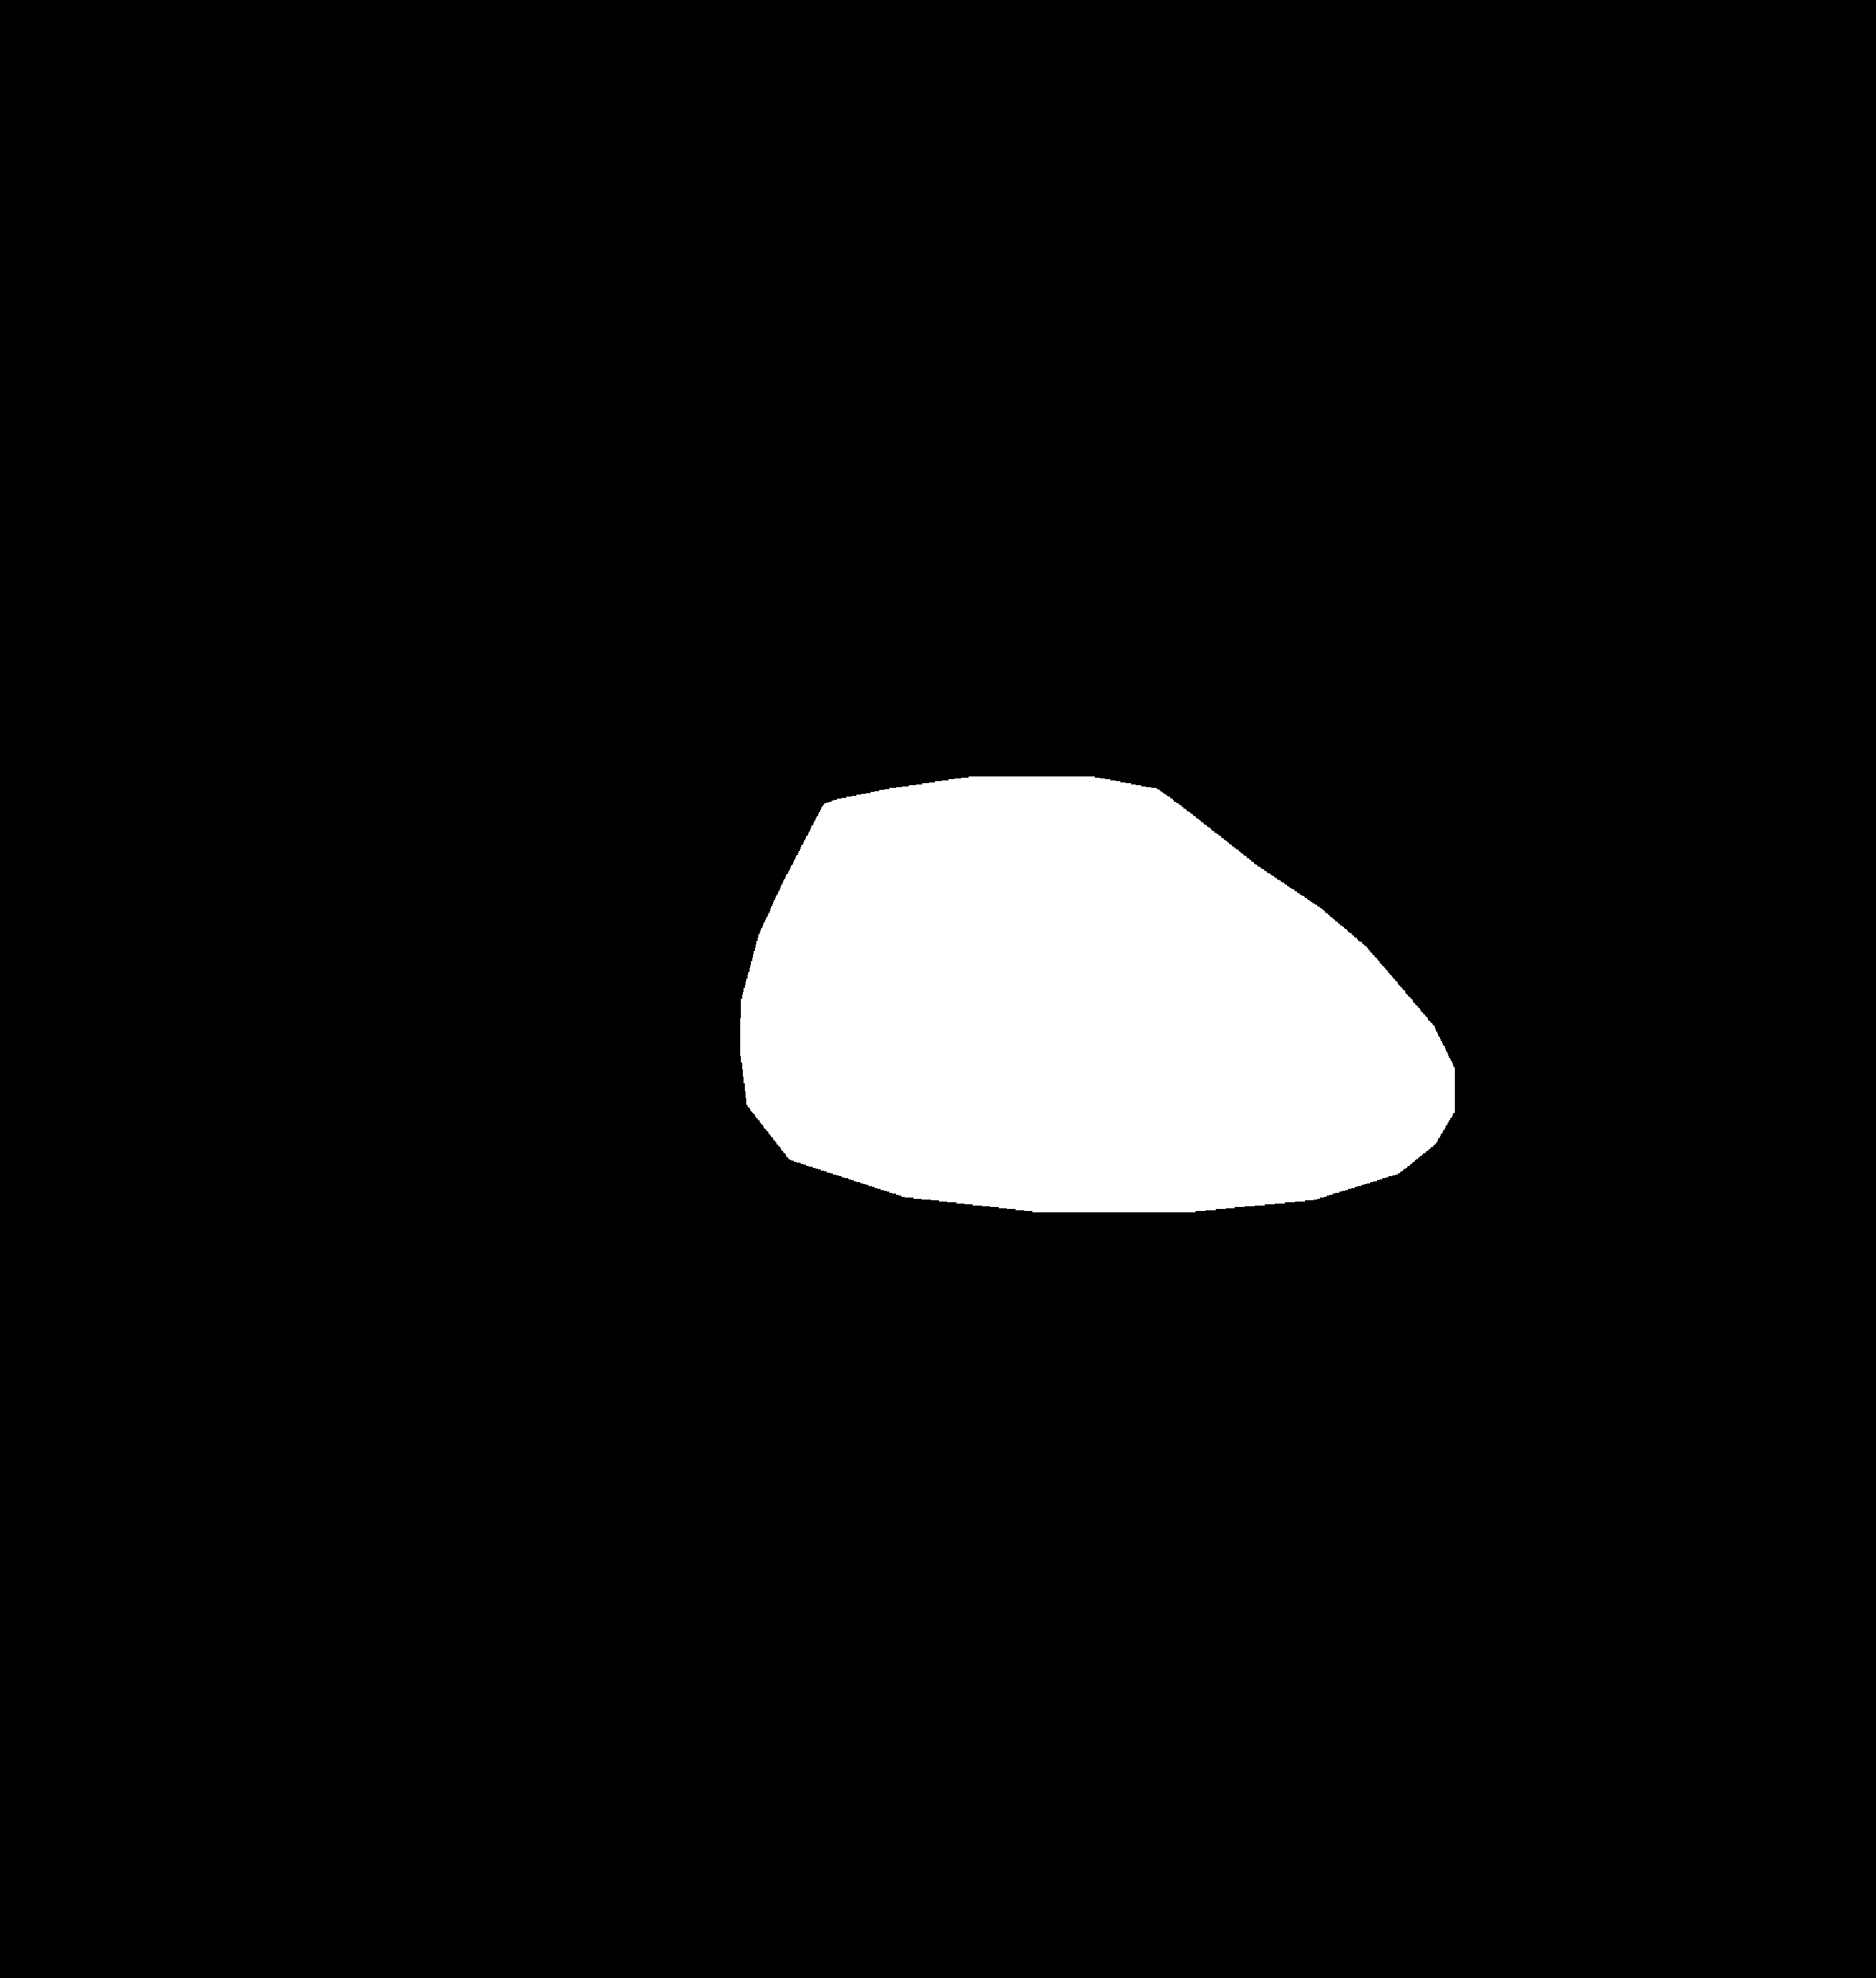heart: (735, 850, 1488, 1241)
left_lung: (323, 273, 860, 1262)
right_lung: (1007, 247, 1576, 1223)
